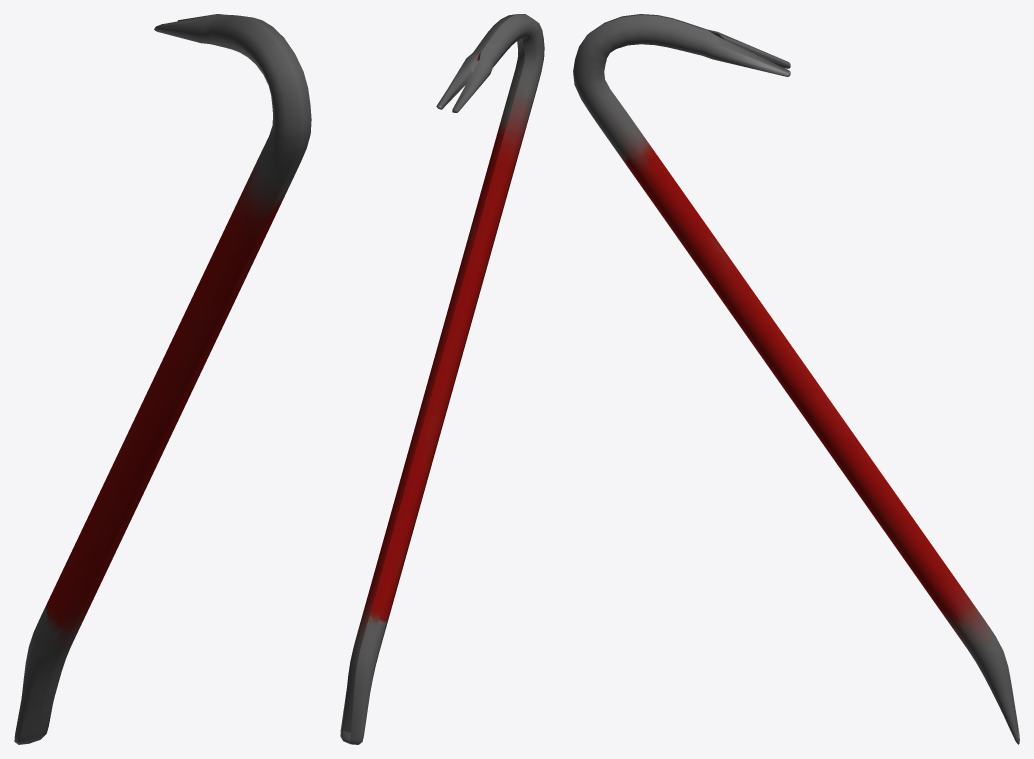
Rendered from crowbar.glb.
3 renders of one model, left to right at view 1: azimuth 30°, elevation 25°; view 2: azimuth 150°, elevation 25°; view 3: azimuth 270°, elevation 25°, orthographic. The views are drawn at different scales.
Visible parts, largest first — view 1: Object_4; view 2: Object_4; view 3: Object_4.
Boxes of the visible parts, x1,y1,x2,y2 form: Object_4: (14,14,311,744); Object_4: (340,14,544,744); Object_4: (573,14,1019,744).
Bounding box in the file's own units: 0.2053 × 4.3 × 2.39.
1 material, 1 textured.
